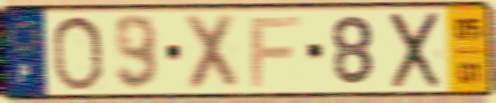8: (329, 14, 377, 88)
9: (111, 12, 161, 94)
F: (248, 14, 304, 90)
O: (49, 13, 105, 93)
X: (181, 11, 242, 93), (388, 9, 444, 92)
